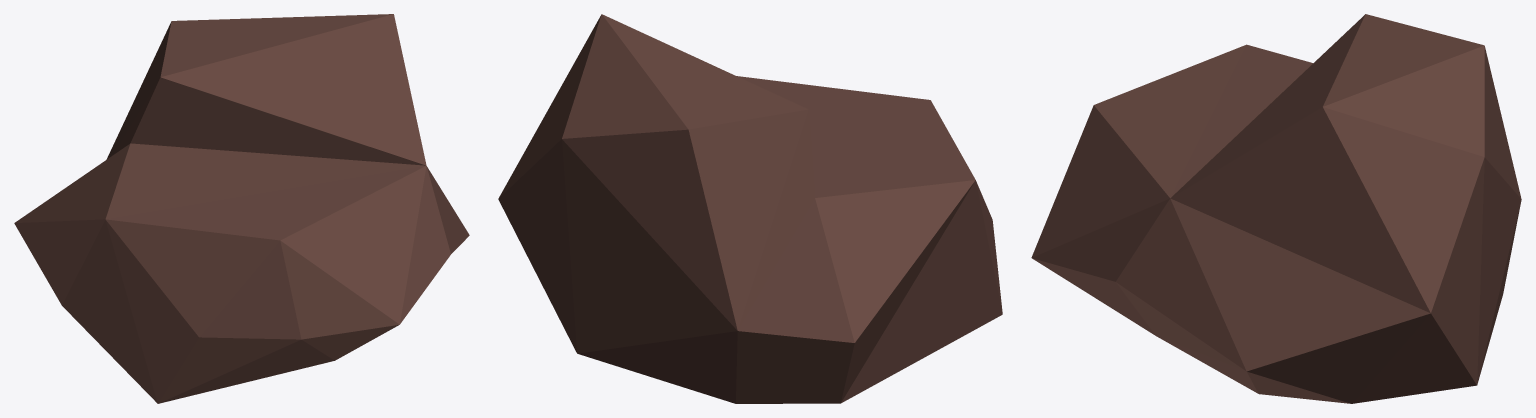
File: Boulder-B10.fbx
3 renders of one model, left to right at view 1: azimuth 30°, elevation 25°; view 2: azimuth 150°, elevation 25°; view 3: azimuth 270°, elevation 25°, orthographic. The views are drawn at different scales.
Parts seen in each view (by area): view 1: Boulder-B10; view 2: Boulder-B10; view 3: Boulder-B10.
Boxes of the visible parts, <box> form: Boulder-B10: <box>14,14,469,403</box>; Boulder-B10: <box>498,14,1002,403</box>; Boulder-B10: <box>1031,14,1521,403</box>.
Bounding box in the file's own units: 120 × 80.52 × 118.
